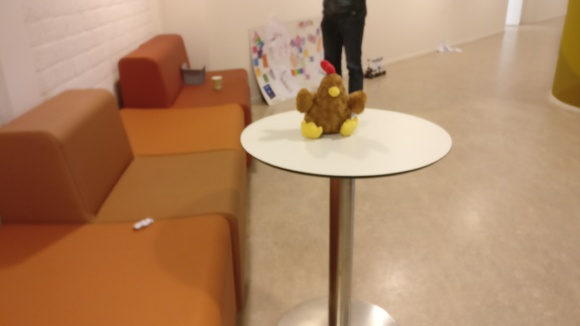chicken: (295, 59, 367, 140)
